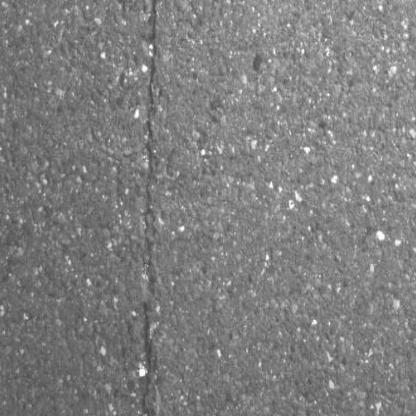Cracks: (135, 0, 170, 416)
